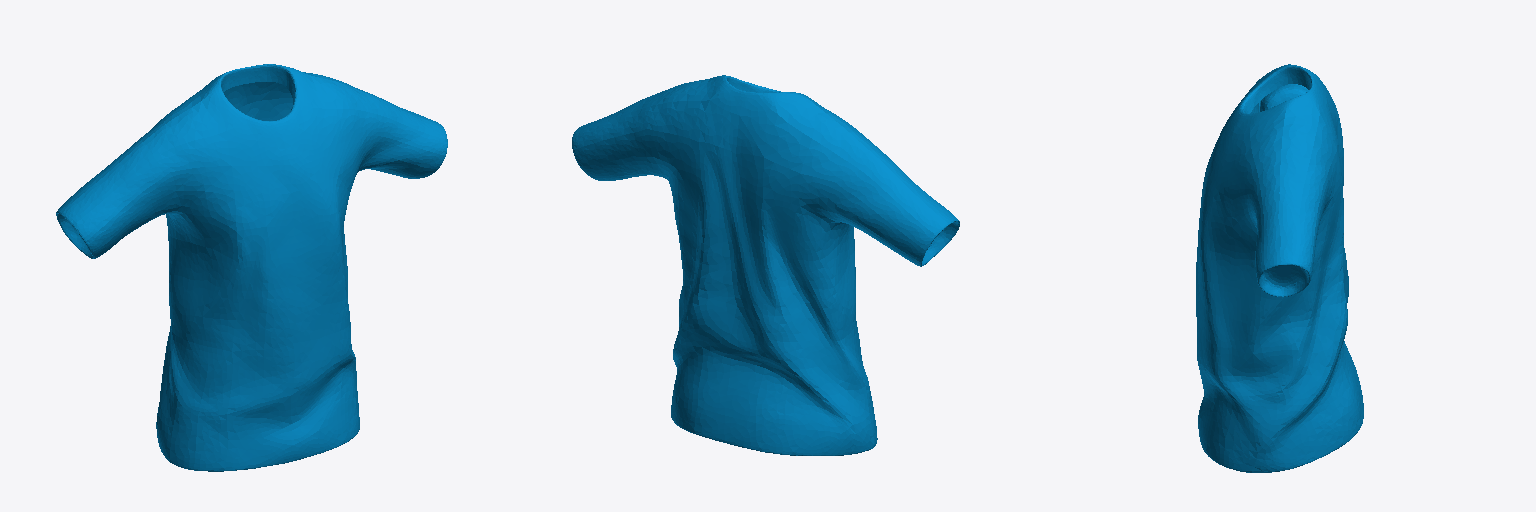
The model's file is shirt_blue.obj.
3 views of the same model, side by side, from view 1: azimuth 30°, elevation 25°; view 2: azimuth 150°, elevation 25°; view 3: azimuth 270°, elevation 25° (orthographic).
Visible parts, largest first — view 1: 22_GOREPORT_1_20_30; view 2: 22_GOREPORT_1_20_30; view 3: 22_GOREPORT_1_20_30.
Boxes of the visible parts, <box> form: 22_GOREPORT_1_20_30: <box>56,64,447,471</box>; 22_GOREPORT_1_20_30: <box>572,75,959,455</box>; 22_GOREPORT_1_20_30: <box>1196,64,1363,472</box>.
Bounding box in the file's own units: 2.01 × 1.81 × 0.7816.